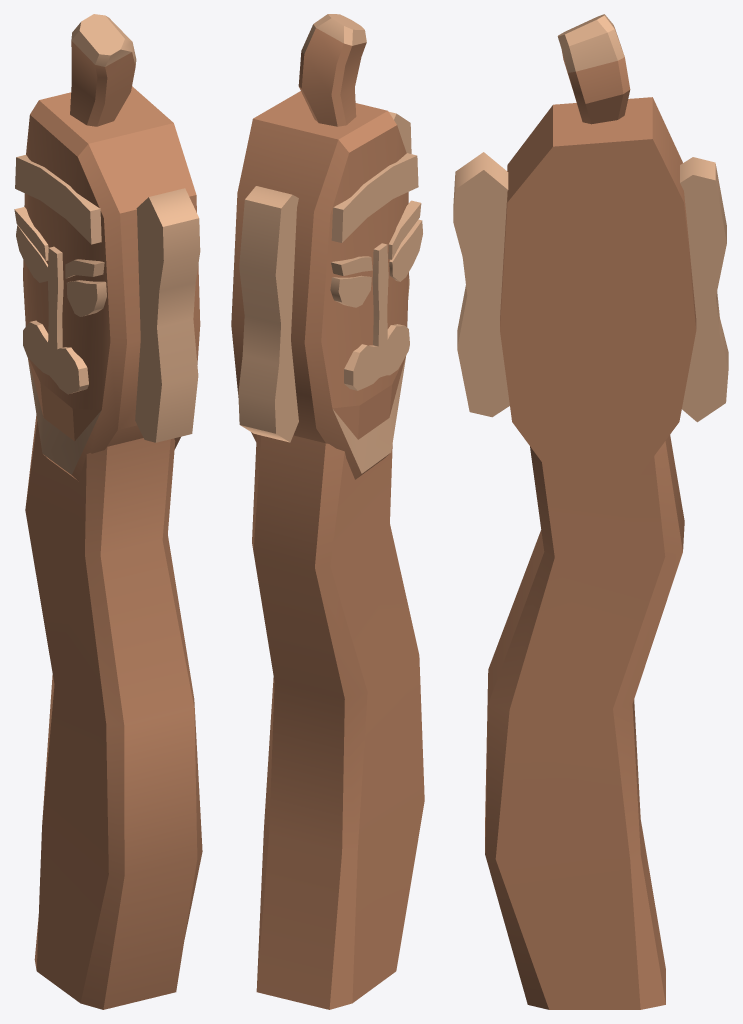
File: jangseung03.fbx
3 views of the same model, side by side, from view 1: azimuth 30°, elevation 25°; view 2: azimuth 150°, elevation 25°; view 3: azimuth 270°, elevation 25° (orthographic).
Visible parts, largest first — view 1: Jangseung03; view 2: Jangseung03; view 3: Jangseung03.
Part boxes in pixels (x1=…): Jangseung03: x1=14, y1=14, x2=202, y2=1009; Jangseung03: x1=231, y1=14, x2=424, y2=1009; Jangseung03: x1=453, y1=14, x2=728, y2=1009.
Bounding box in the file's own units: 8.1 × 18.96 × 73.58.
